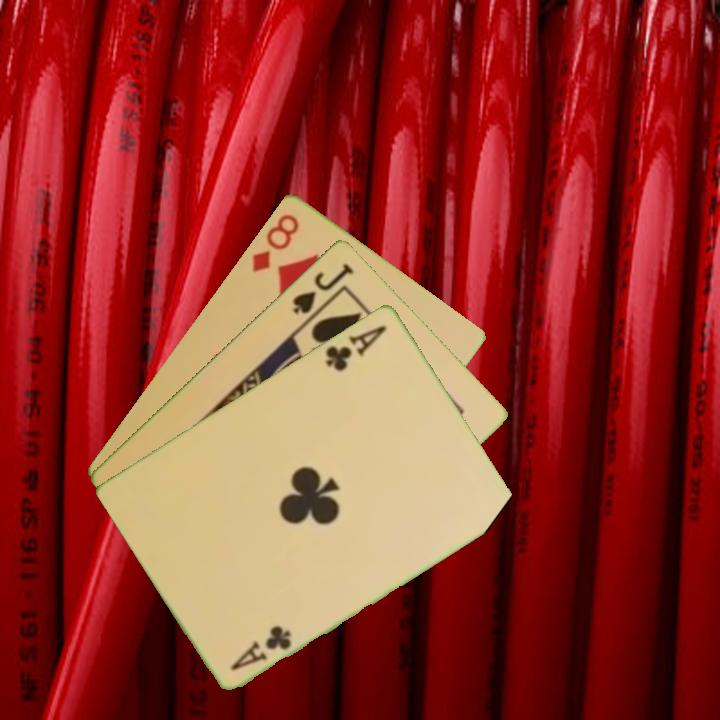8d: (248, 209, 302, 275)
Ac: (322, 320, 390, 374), (227, 620, 295, 673)
Js: (289, 259, 357, 317)
